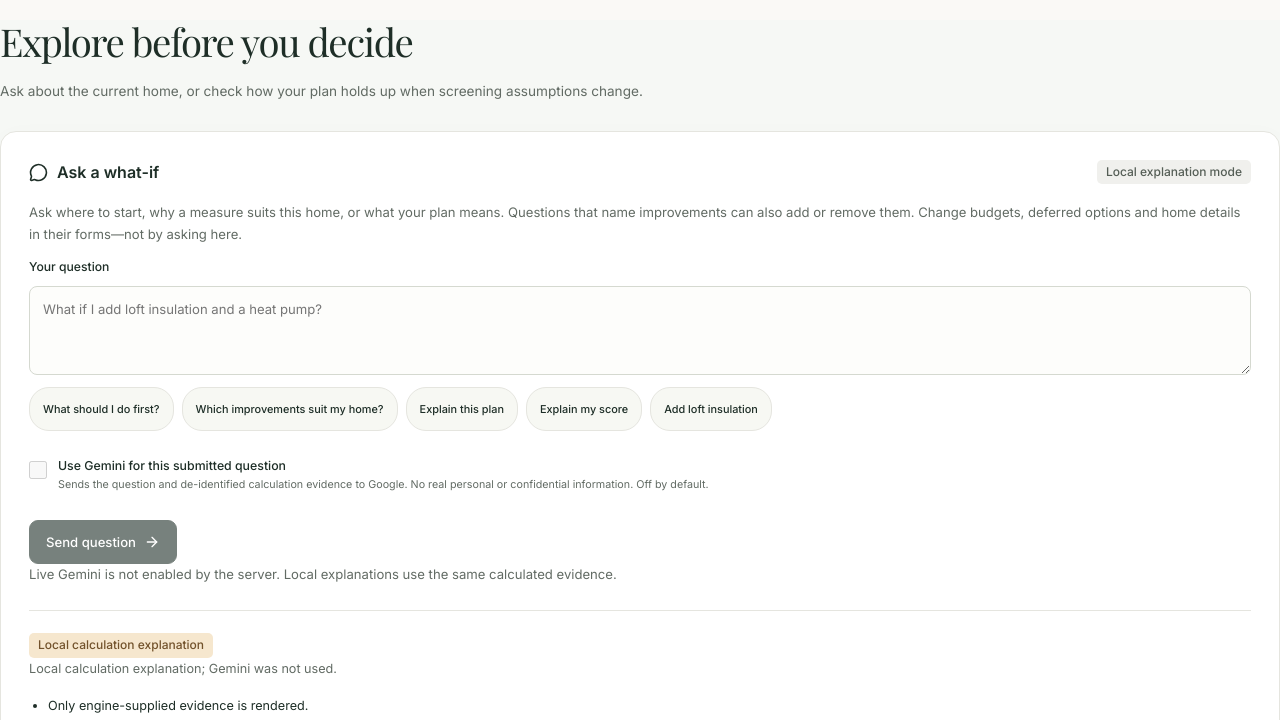
Test: bounded questions and decision check › removes a previous explanation when a replacement request fails
Expected: the list item "Only engine-supplied evidence is rendered." is shown, [48, 698, 308, 713]
Type "Explain my score" into the text box labelled "Your question" at (640, 330), box [29, 286, 1251, 375]
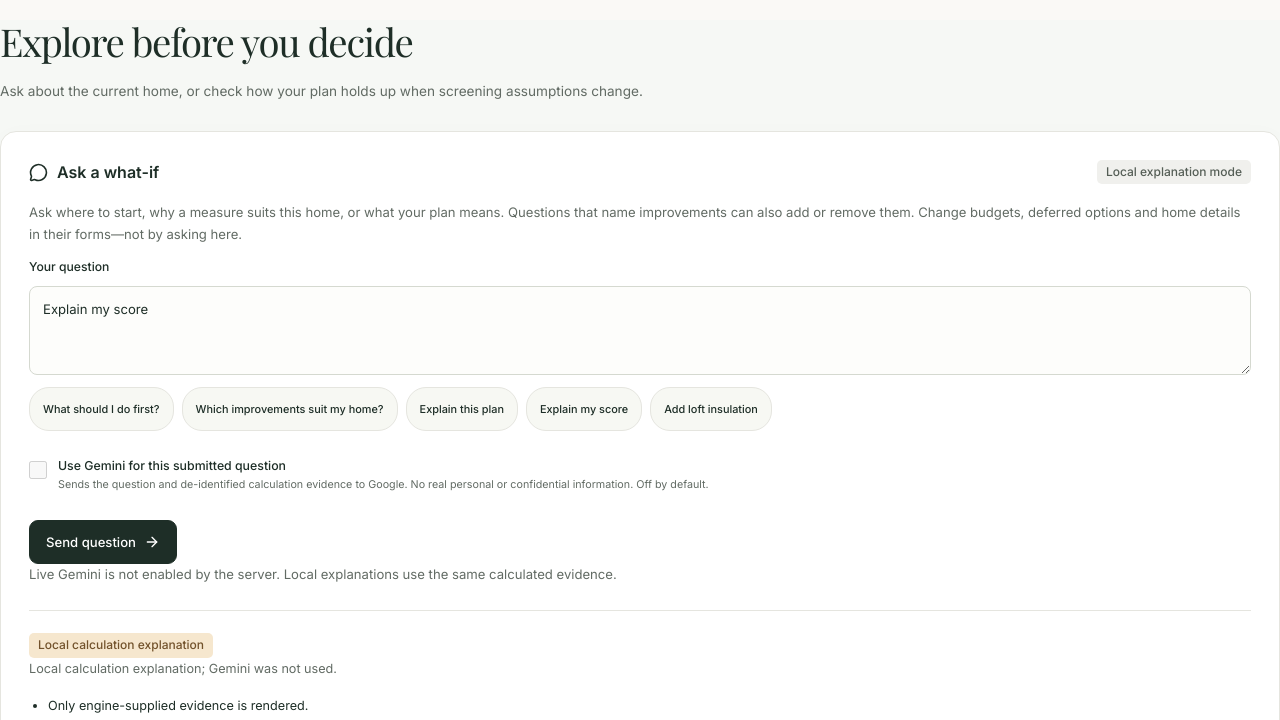
Click the button "Send question" at (103, 542), box [29, 520, 177, 564]
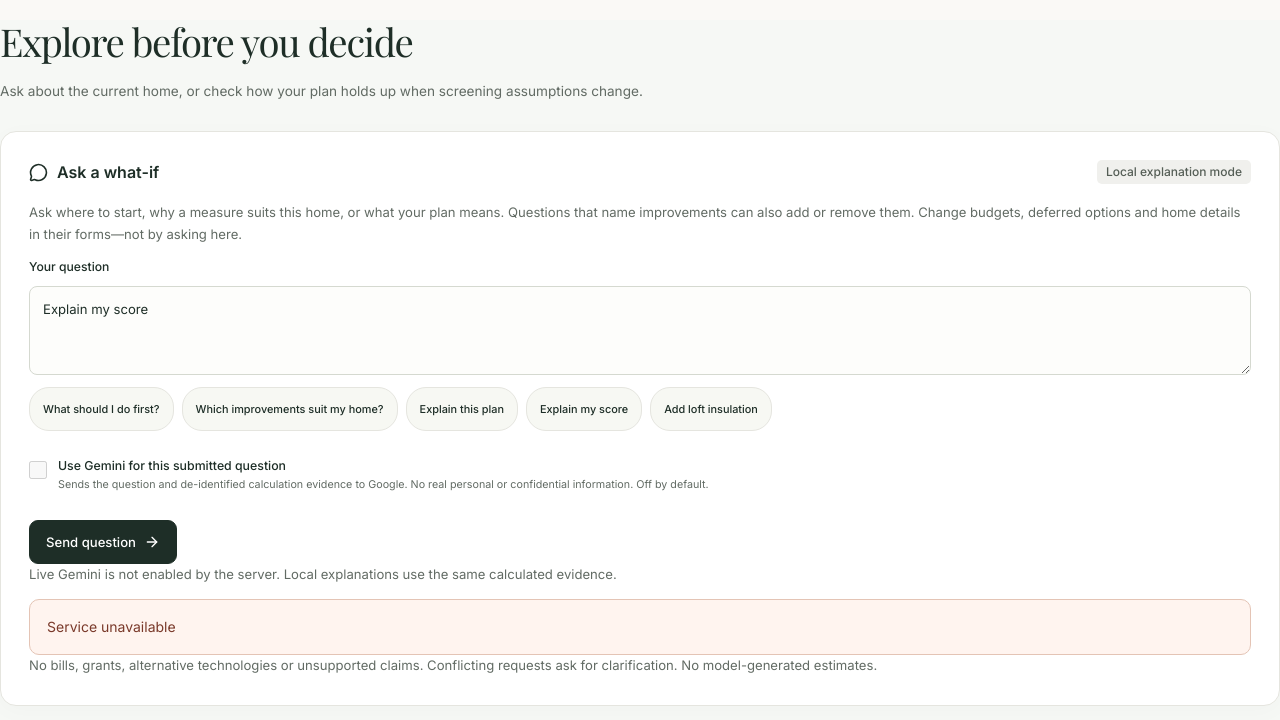
Now the message reads "Service unavailable", box [47, 618, 176, 635]
Now the list item "Only engine-supplied evidence is rendered." is gone
